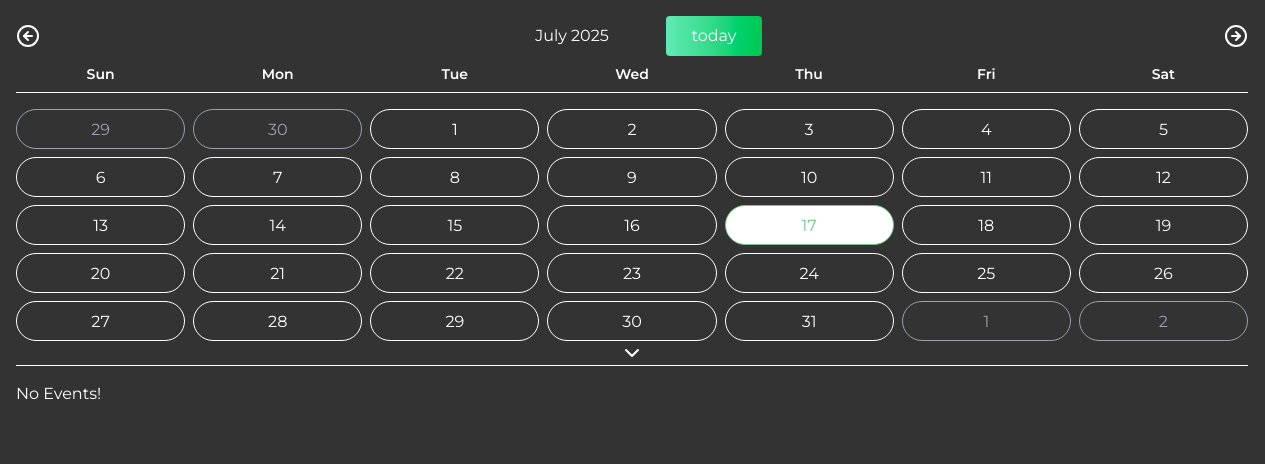
it: Calendar Page › Date Navigation › clicking on next month day navigates to next month and selects that day
Expected: the text "July 2025" is shown, x1=535 y1=26 x2=609 y2=45
Click the 2nd button "2" at (1163, 321), box x1=1079 y1=301 x2=1248 y2=341
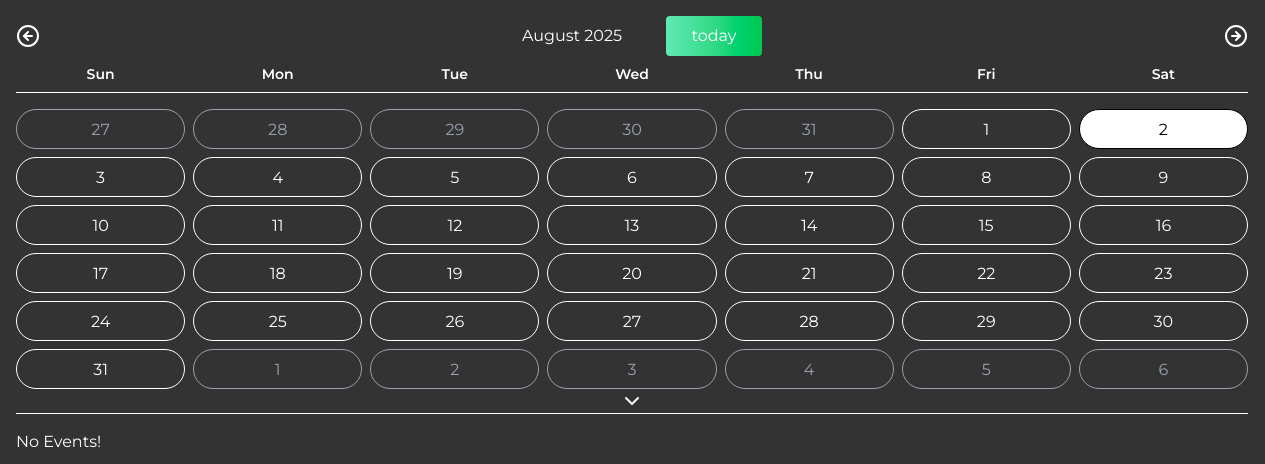
Expected: the 1st button "2" is shown, x1=1079 y1=109 x2=1248 y2=149
Expected: the text "August 2025" is shown, x1=522 y1=26 x2=622 y2=45
